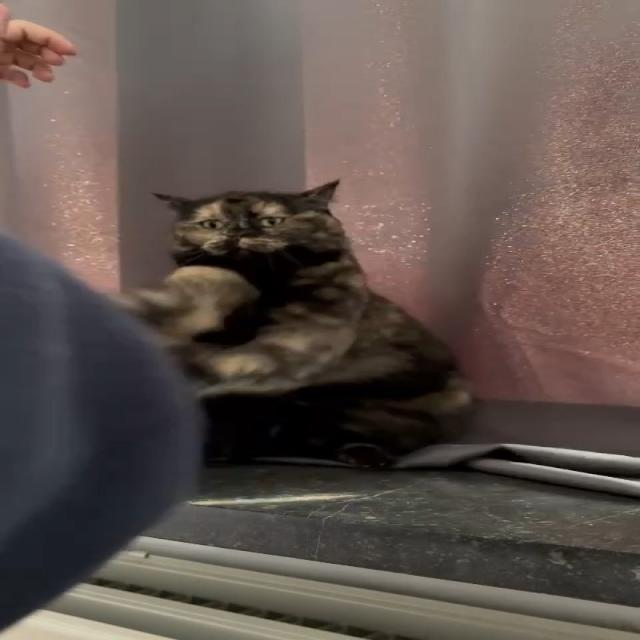authorized: (114, 178, 474, 468)
